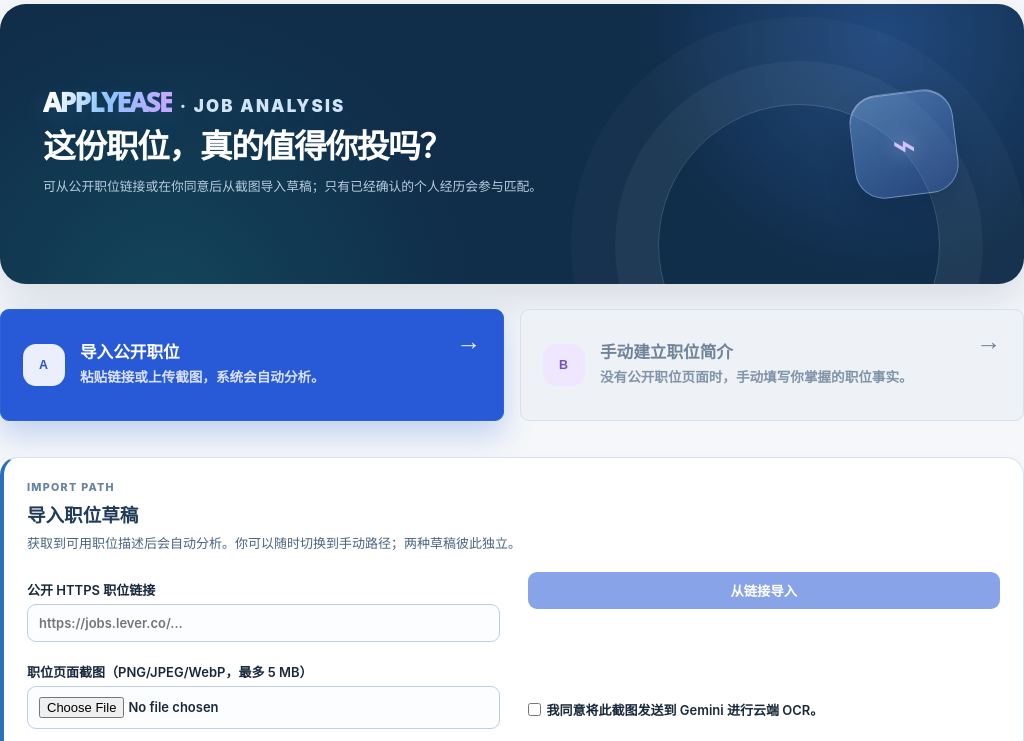
Test case: JobAnalysisPage › distinguishes no confirmed experiences from confirmed experiences with no evidence
Click the button "B 手动建立职位简介 没有公开职位页面时，手动填写你掌握的职位事实。 →": point(564, 365) 520,309 -> 1023,421
(page scrolled)
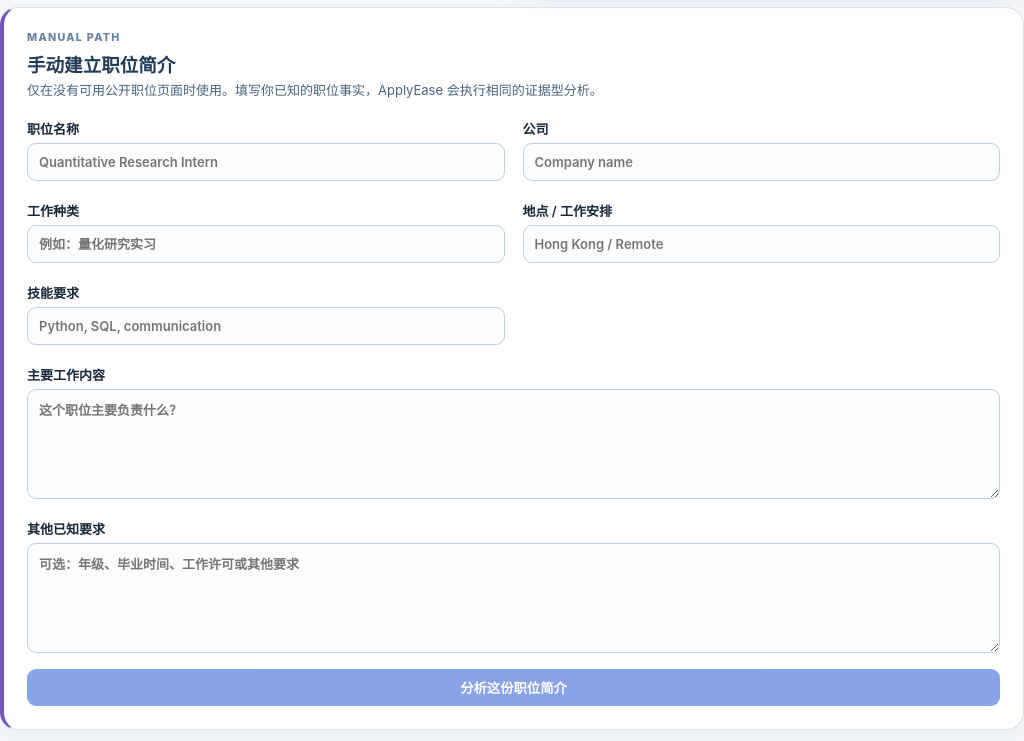
In the text box labelled "其他已知要求": point(514, 598) 27,542 -> 1000,652, type "Python and Docker are required for this internship."
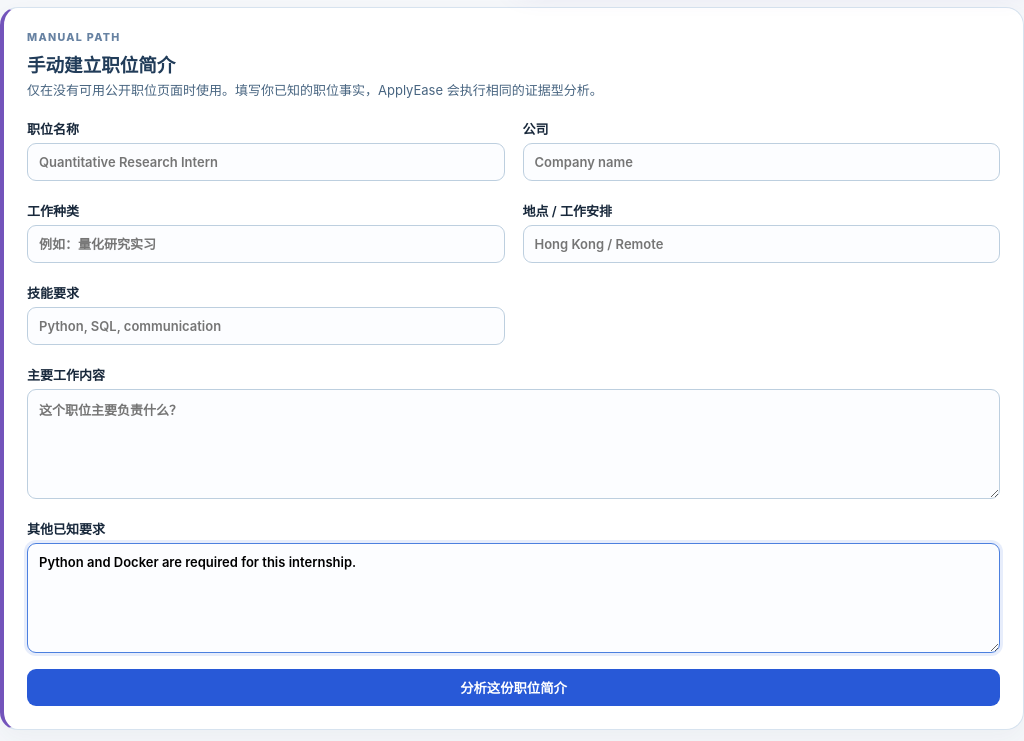
Click the button "分析这份职位简介": point(514, 687) 27,668 -> 1000,706
(page scrolled)
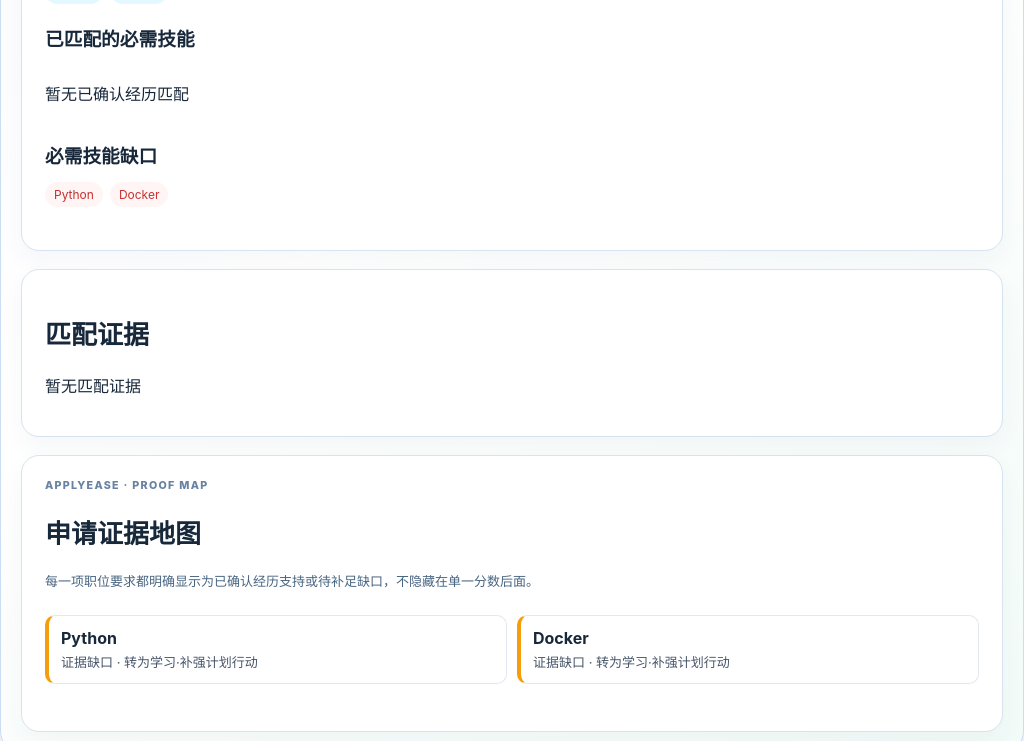
Expected: the text "暂无匹配证据" is shown, 45,376 -> 141,396
